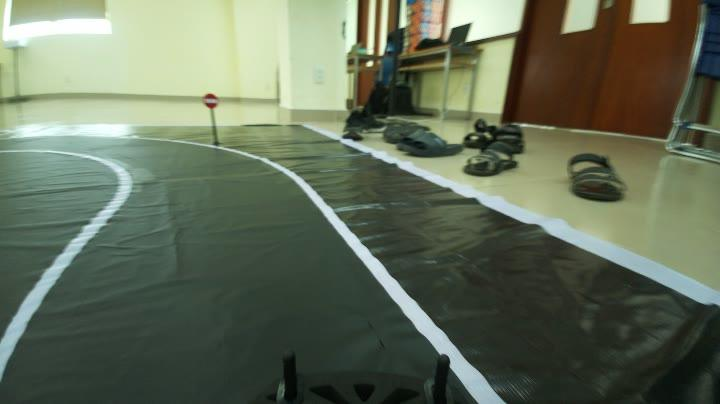no_entry: (200, 91, 222, 109)
